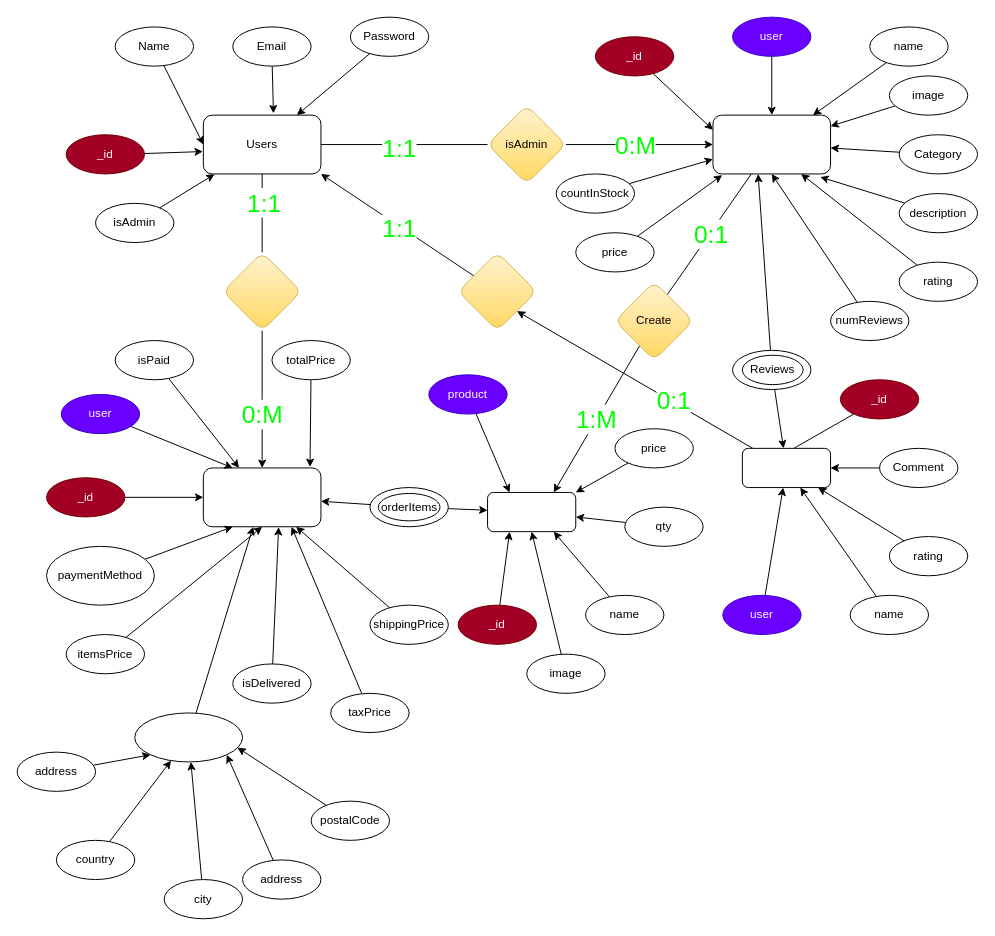
This 995x936 diagram has some shape labels left out. Here are the shapes that lost their labels. From the top down, the centre of each, then its label:
the point at 771,144: Products
the point at 261,291: Make
the point at 497,291: Add Review
the point at 786,467: Review
the point at 261,497: Orders
the point at 531,511: Order
the point at 188,737: shippingAddress
